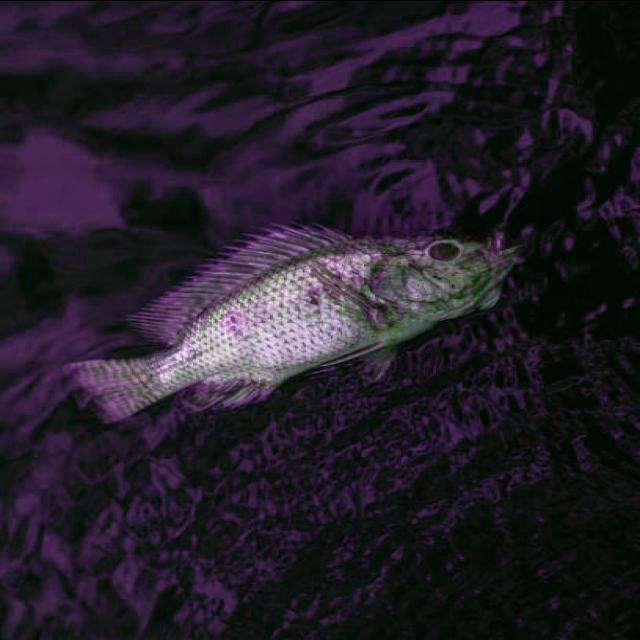EUS Disease: (70, 217, 540, 428)
